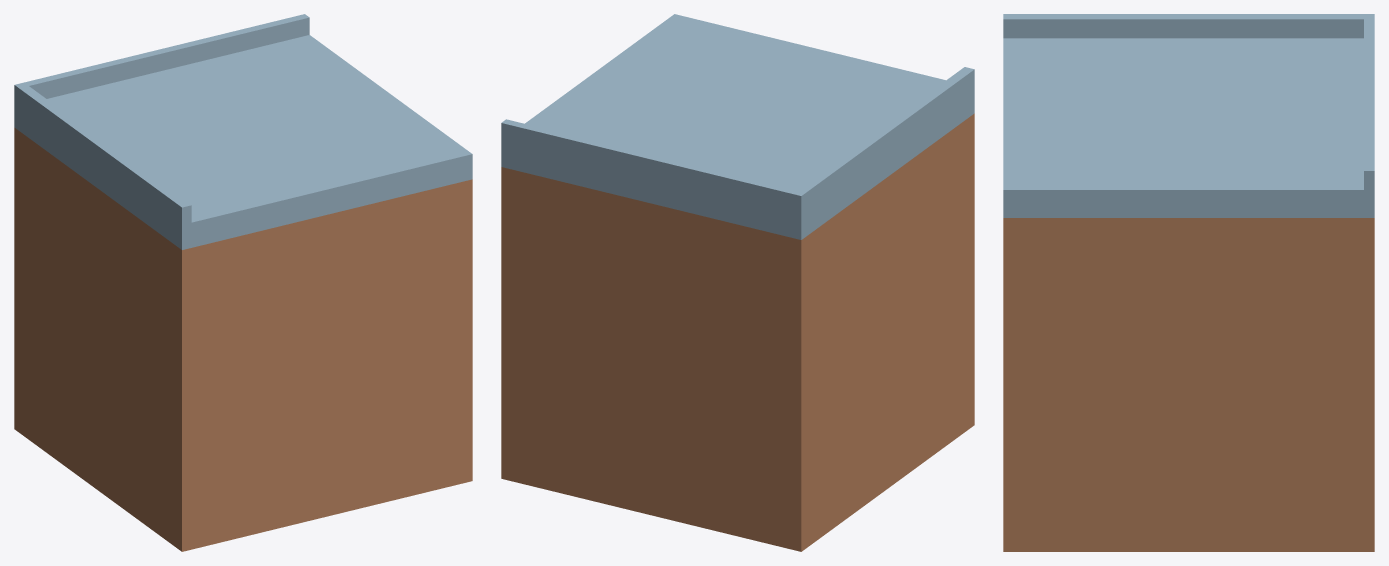
File: kitchenCabinetCornerInner.fbx
The picture shows the model from 3 angles, left to right: view 1: azimuth 30°, elevation 25°; view 2: azimuth 150°, elevation 25°; view 3: azimuth 270°, elevation 25°; orthographic projection. The views are drawn at different scales.
Visible parts, largest first — view 1: Cube.001; view 2: Cube.001; view 3: Cube.001.
Boxes of the visible parts, x1,y1,x2,y2 form: Cube.001: (14,14,472,551); Cube.001: (501,14,974,551); Cube.001: (1003,14,1374,551).
Bounding box in the file's own units: 668 × 756 × 668.
